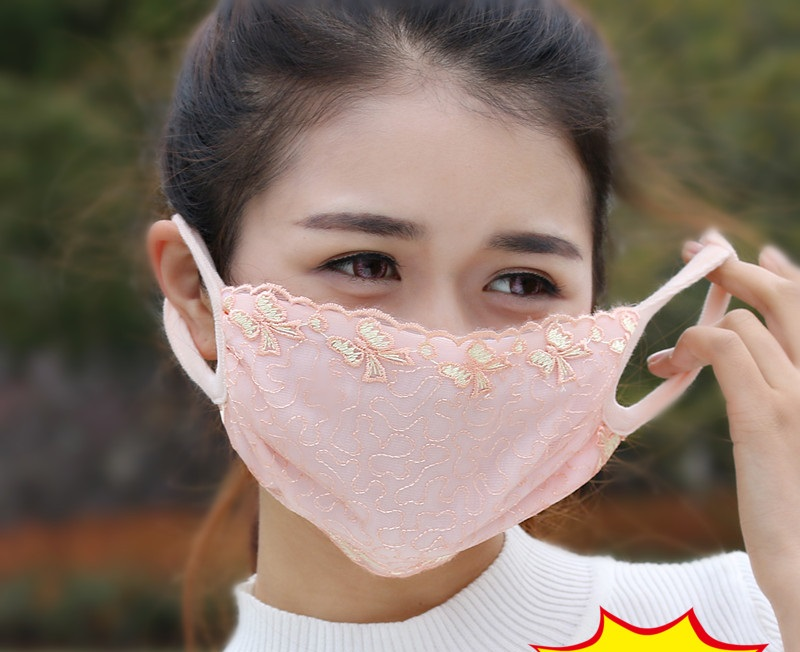face_mask: (227, 96, 593, 535)
